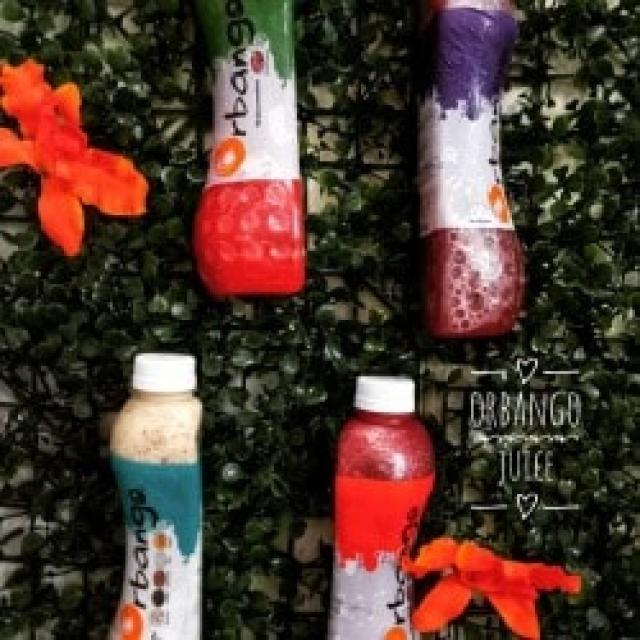plastic_bottle: (179, 0, 324, 305), (69, 339, 212, 637), (414, 0, 534, 339), (313, 357, 457, 637)
